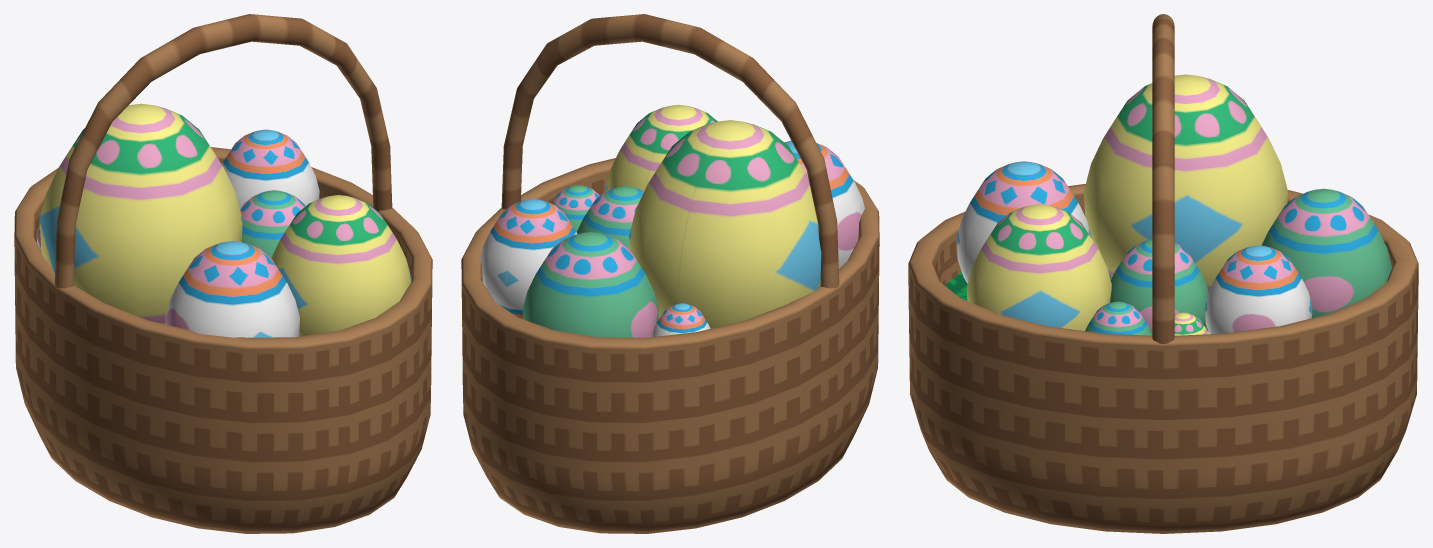
Rendered from MM_EasterEggBasket.fbx.
3 views of the same model, side by side, from view 1: azimuth 30°, elevation 25°; view 2: azimuth 150°, elevation 25°; view 3: azimuth 270°, elevation 25° (orthographic).
Parts seen in each view (by area): view 1: MM_EasterEggBasket; view 2: MM_EasterEggBasket; view 3: MM_EasterEggBasket.
Boxes of the visible parts, x1,y1,x2,y2 form: MM_EasterEggBasket: (14,14,432,533); MM_EasterEggBasket: (461,14,879,533); MM_EasterEggBasket: (908,14,1418,533).
Bounding box in the file's own units: 96.27 × 117 × 126.
